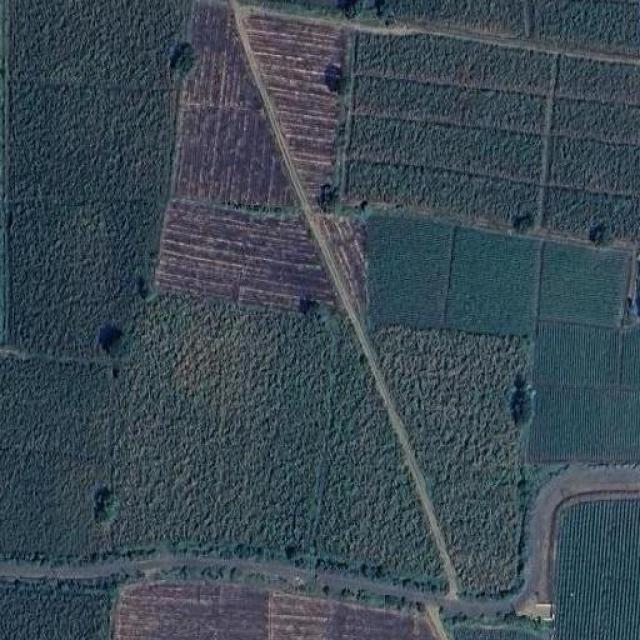land-Sx1C: (0, 294, 445, 591), (0, 0, 191, 353), (372, 326, 526, 596), (175, 0, 294, 207), (241, 0, 640, 57), (155, 199, 336, 311), (244, 12, 342, 198), (351, 34, 560, 95), (342, 166, 534, 232), (555, 499, 640, 639), (350, 116, 540, 174), (355, 77, 544, 129), (445, 228, 538, 333), (366, 214, 452, 327), (114, 584, 269, 640), (269, 591, 438, 640), (530, 388, 640, 462), (540, 242, 629, 324), (0, 583, 114, 640), (542, 186, 639, 245), (535, 322, 621, 386), (551, 137, 640, 198), (320, 214, 368, 313), (551, 100, 640, 144), (553, 59, 640, 103), (600, 269, 624, 323)
